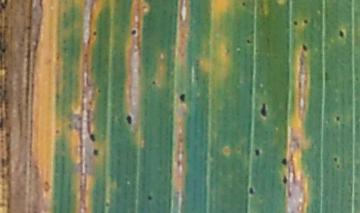tarspot: (125, 113, 135, 127), (259, 101, 267, 118), (177, 90, 186, 105), (87, 132, 98, 144), (280, 157, 289, 168), (91, 147, 100, 158), (253, 148, 261, 158), (301, 43, 309, 53), (129, 27, 137, 37), (53, 128, 61, 137), (282, 175, 288, 186), (339, 27, 344, 40), (332, 155, 339, 164), (91, 28, 98, 37), (249, 185, 255, 195), (334, 115, 341, 123), (147, 194, 154, 202), (302, 18, 310, 25), (292, 20, 299, 28), (246, 37, 252, 46), (104, 200, 110, 209), (151, 79, 157, 87), (240, 2, 247, 8)
